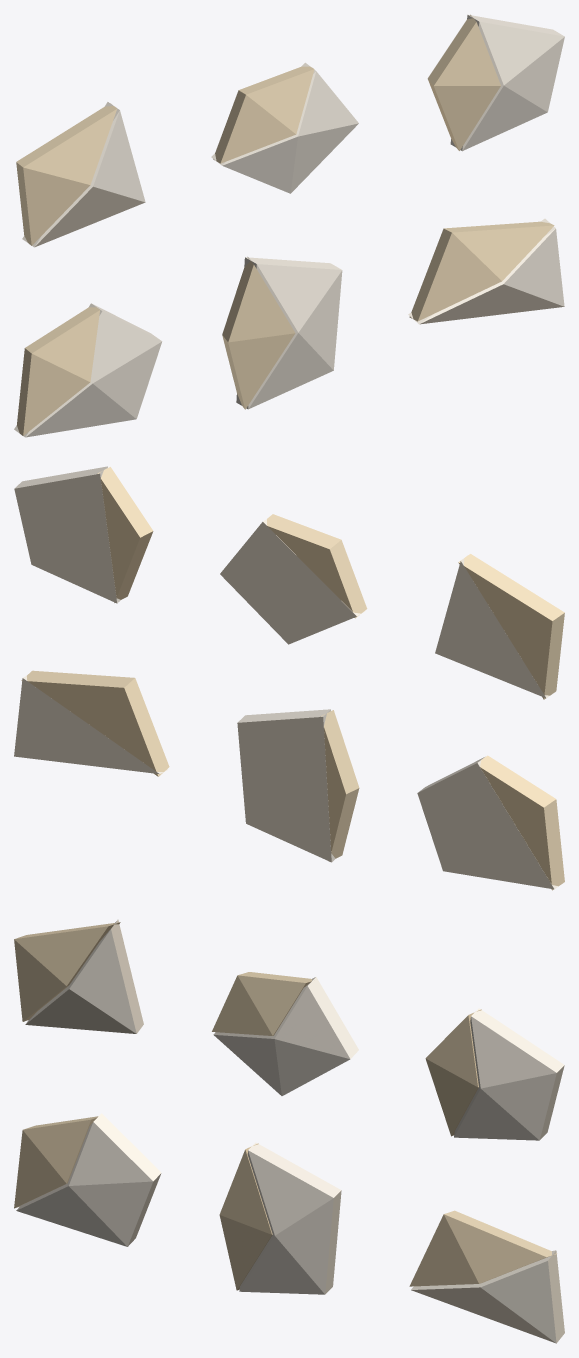
The model's file is paper_scraps.glb.
3 renders of one model, top to bottom at view 1: azimuth 30°, elevation 25°; view 2: azimuth 150°, elevation 25°; view 3: azimuth 330°, elevation 25°, orthographic.
Visible parts, largest first — view 1: scrap_1, scrap_0, scrap_5, scrap_2, scrap_3, scrap_4; view 2: scrap_1, scrap_0, scrap_5, scrap_2, scrap_3, scrap_4; view 3: scrap_1, scrap_0, scrap_5, scrap_2, scrap_4, scrap_3.
Boxes of the visible parts, left/top/right/bottom form: scrap_1: left=222, top=257, right=342, bottom=409; scrap_0: left=14, top=303, right=162, bottom=437; scrap_5: left=427, top=14, right=564, bottom=151; scrap_2: left=408, top=218, right=564, bottom=324; scrap_3: left=16, top=102, right=145, bottom=247; scrap_4: left=211, top=62, right=358, bottom=193; scrap_1: left=237, top=709, right=359, bottom=862; scrap_0: left=417, top=755, right=564, bottom=890; scrap_5: left=14, top=466, right=153, bottom=603; scrap_2: left=14, top=670, right=169, bottom=776; scrap_3: left=435, top=554, right=564, bottom=699; scrap_4: left=220, top=514, right=367, bottom=644; scrap_1: left=219, top=1142, right=341, bottom=1294; scrap_0: left=14, top=1113, right=161, bottom=1246; scrap_5: left=425, top=1008, right=564, bottom=1140; scrap_2: left=409, top=1210, right=564, bottom=1343; scrap_4: left=212, top=972, right=358, bottom=1095; scrap_3: left=14, top=919, right=143, bottom=1033.
Bounding box in the file's own units: 0.0633 × 0.0371 × 0.00349.
